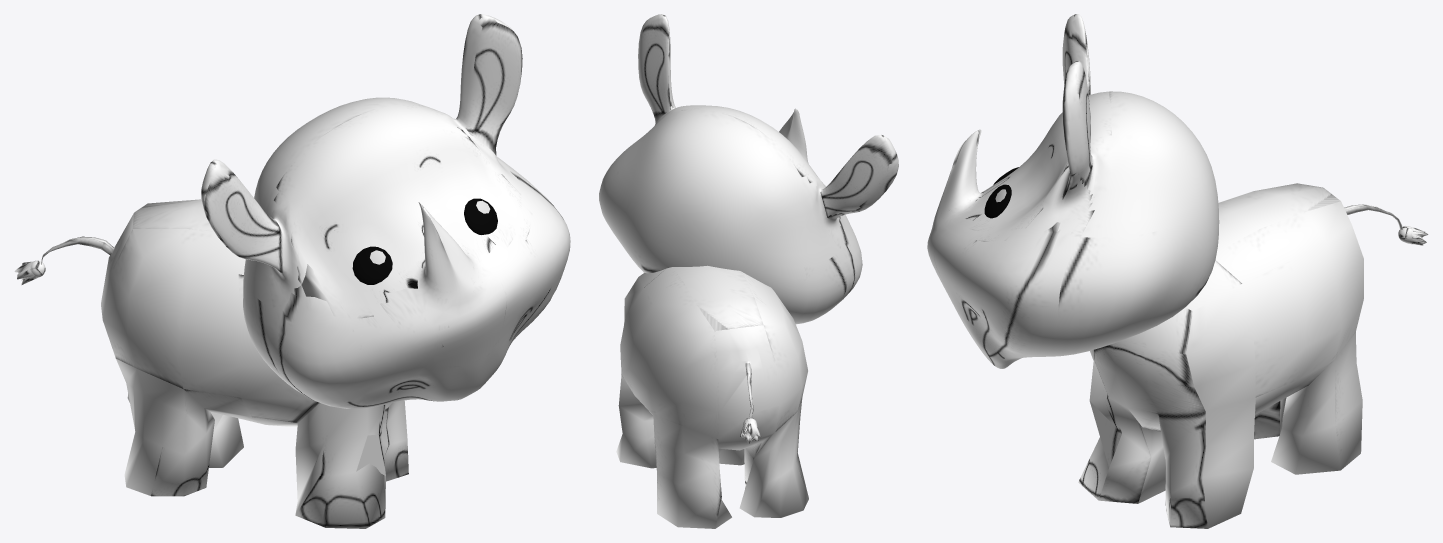
The model's file is RinoC.fbx.
3 renders of one model, left to right at view 1: azimuth 30°, elevation 25°; view 2: azimuth 150°, elevation 25°; view 3: azimuth 270°, elevation 25°, orthographic. The views are drawn at different scales.
Visible parts, largest first — view 1: Corps, Front, Machoire, Oreilles, Corne, Oeil Gauche, Oeil Droite; view 2: Corps, Front, Machoire, Oreilles, Corne, Queue; view 3: Corps, Machoire, Front, Oreilles, Corne, Oeil Droite.
Part boxes in pixels (x1,y1,x2,y2): Corps: (41,199,408,528); Front: (243,97,532,318); Machoire: (243,162,570,408); Oreilles: (201,14,522,272); Corne: (417,202,483,302); Oeil Gauche: (352,246,392,284); Oeil Droite: (464,198,497,234); Corps: (616,265,808,528); Front: (618,105,842,279); Machoire: (599,149,862,324); Oreilles: (638,14,898,219); Corne: (779,108,808,163); Queue: (740,418,760,443); Corps: (1078,183,1402,528); Machoire: (927,209,1219,368); Front: (958,91,1218,241); Oreilles: (1062,14,1092,199); Corne: (933,129,981,224); Oeil Droite: (984,184,1011,218).
Bounding box in the file's own units: 303 × 401 × 380.
